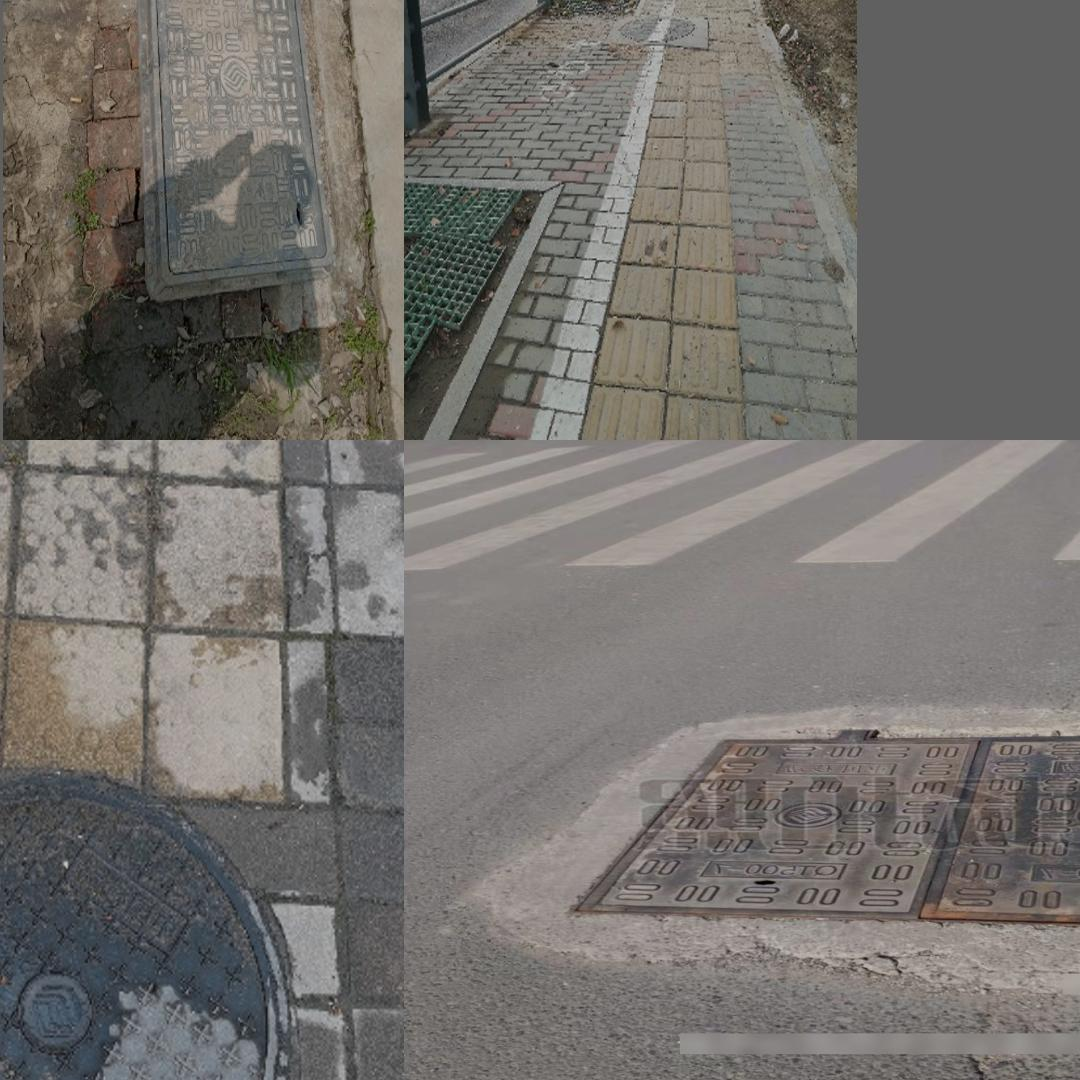good: (567, 725, 1080, 932), (0, 773, 287, 1080), (134, 0, 342, 287), (617, 12, 693, 44)
